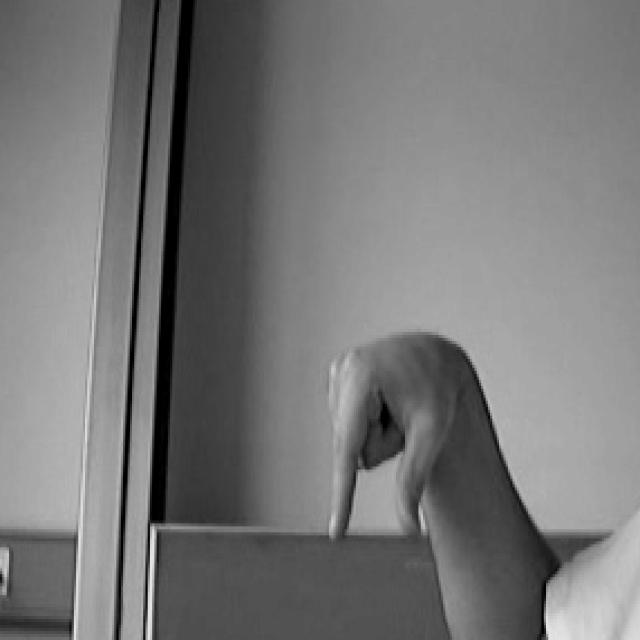Q: (324, 325, 477, 553)
